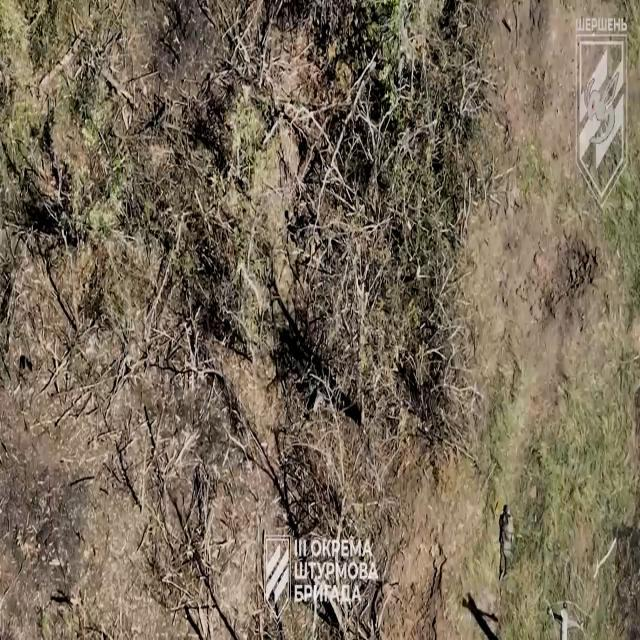MIL_Pax: (499, 504, 514, 579)
